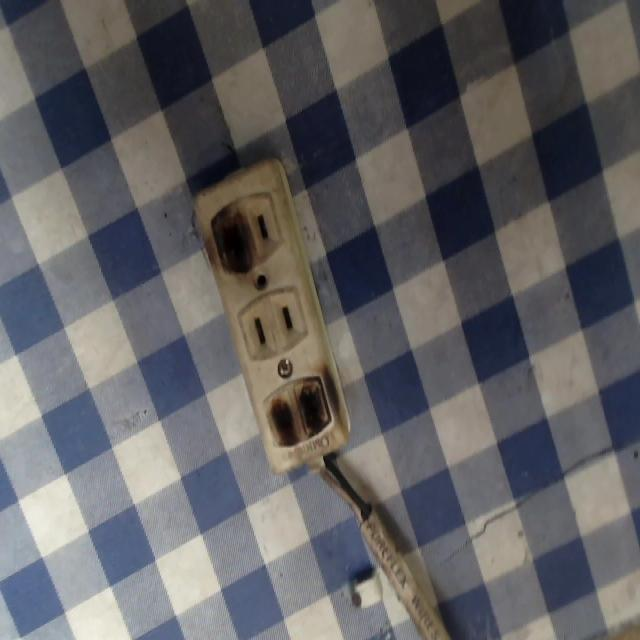-: (261, 364, 344, 456), (207, 200, 261, 280)
